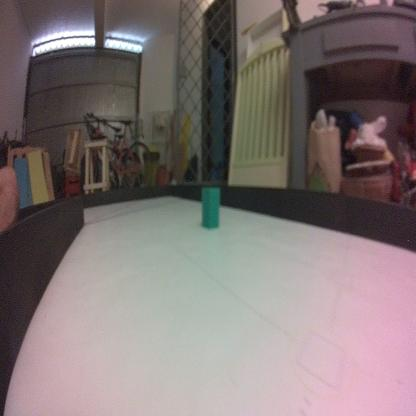green: (199, 184, 222, 234)
